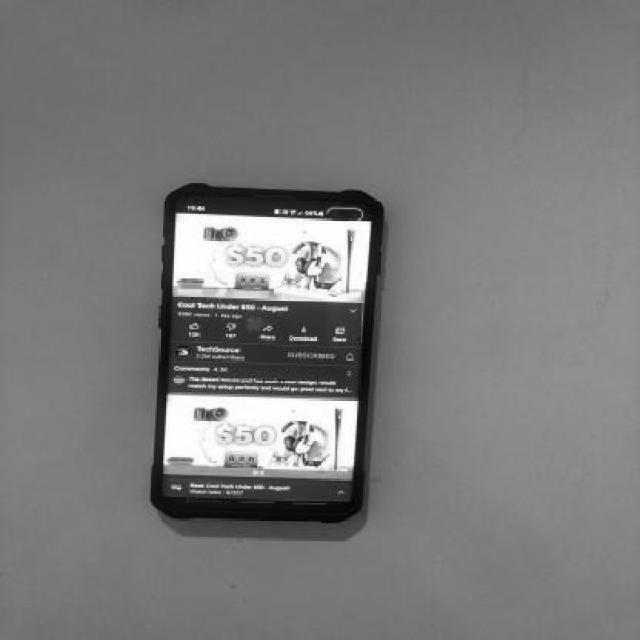fake: (148, 184, 386, 520)
